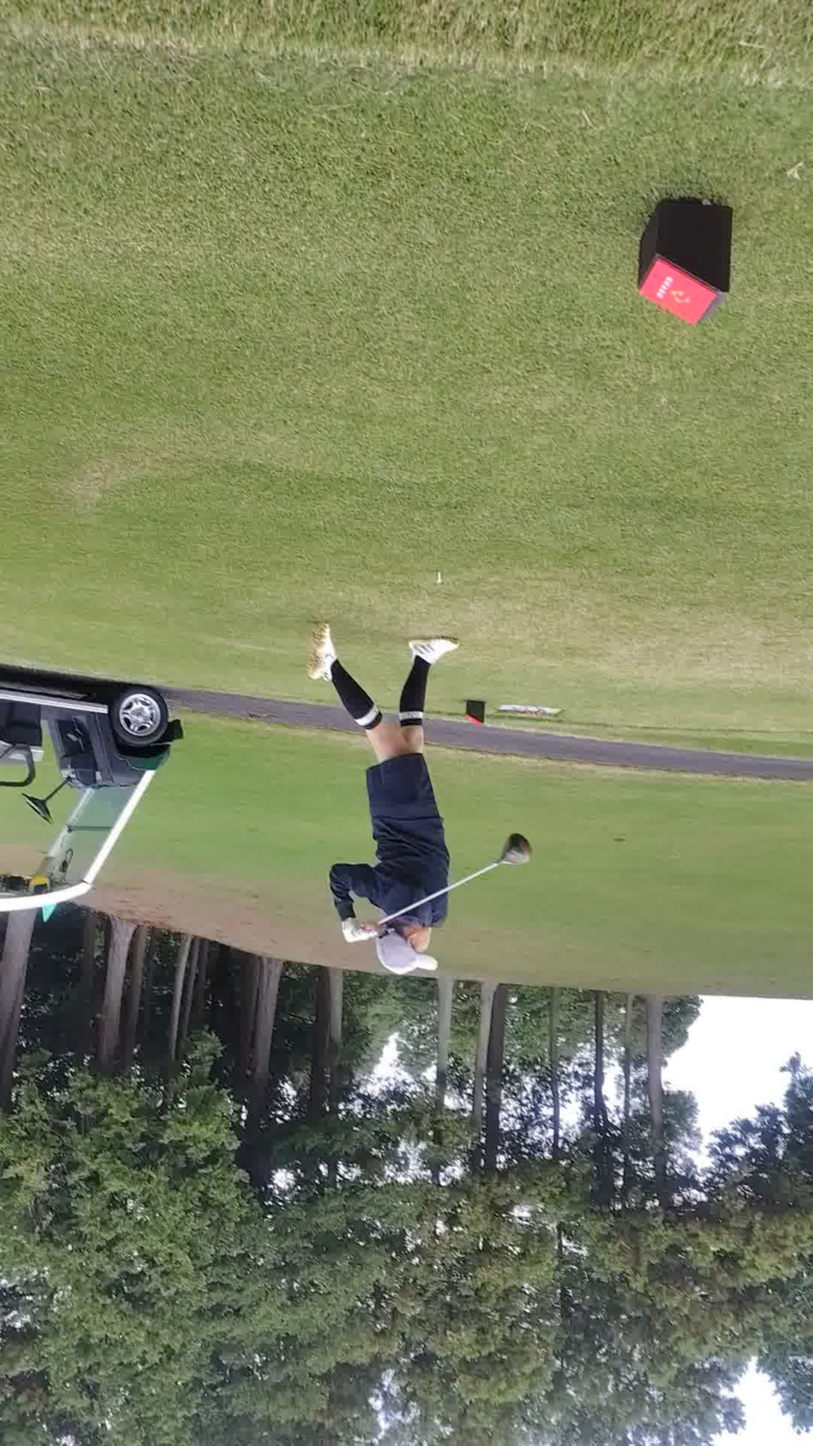clubhead: (459, 790, 573, 901)
